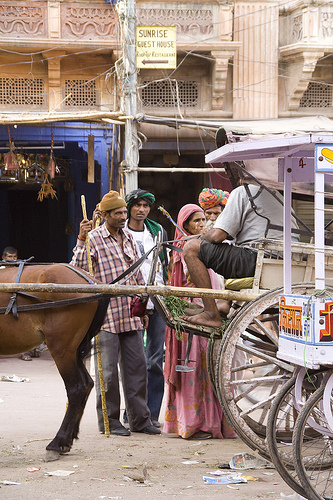horse: (1, 255, 117, 466)
